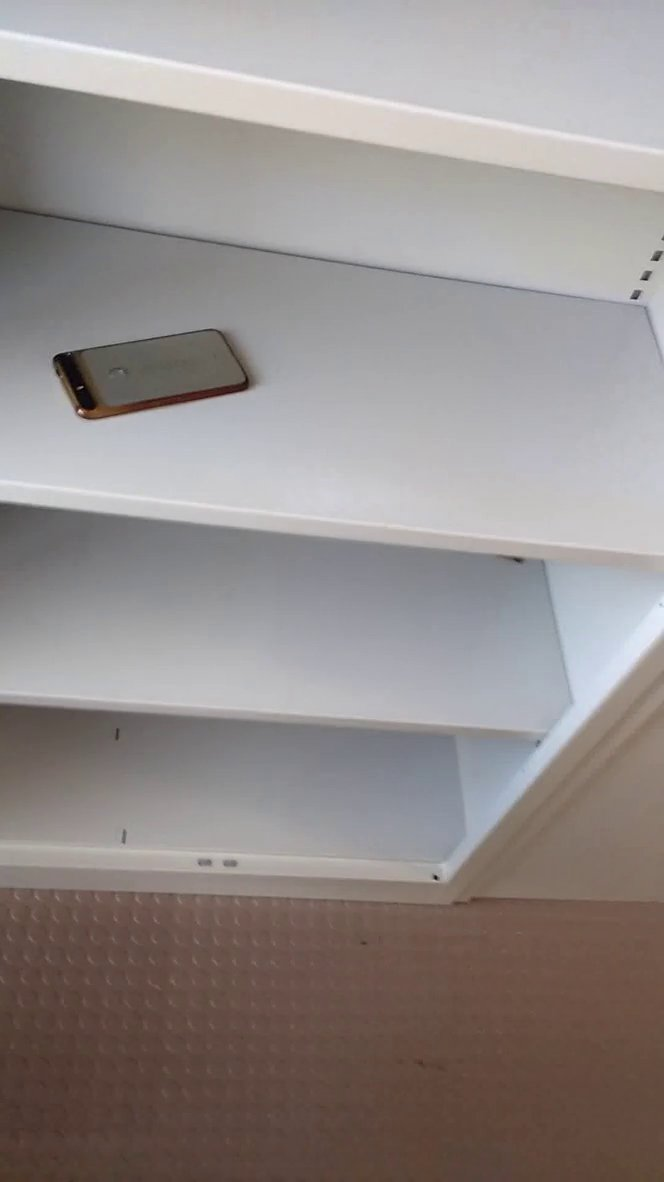phone: (41, 317, 263, 426)
